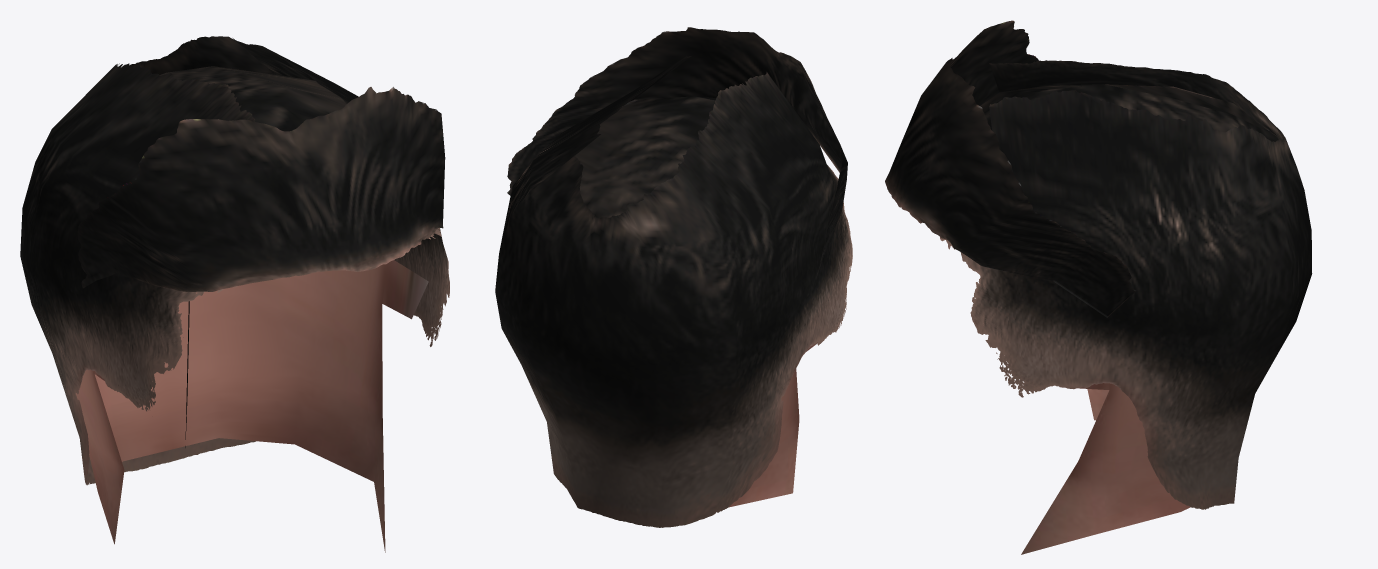
The model's file is eng-rice.glb.
The picture shows the model from 3 angles, left to right: view 1: azimuth 30°, elevation 25°; view 2: azimuth 150°, elevation 25°; view 3: azimuth 270°, elevation 25°; orthographic projection. The views are drawn at different scales.
Visible parts, largest first — view 1: hair; view 2: hair; view 3: hair.
Boxes of the visible parts, x1,y1,x2,y2 form: hair: [20, 36, 449, 552]; hair: [495, 27, 852, 527]; hair: [885, 20, 1312, 554].
Bounding box in the file's own units: 0.1831 × 0.23 × 0.2106.
Materials: 2 (2 with a texture image).
